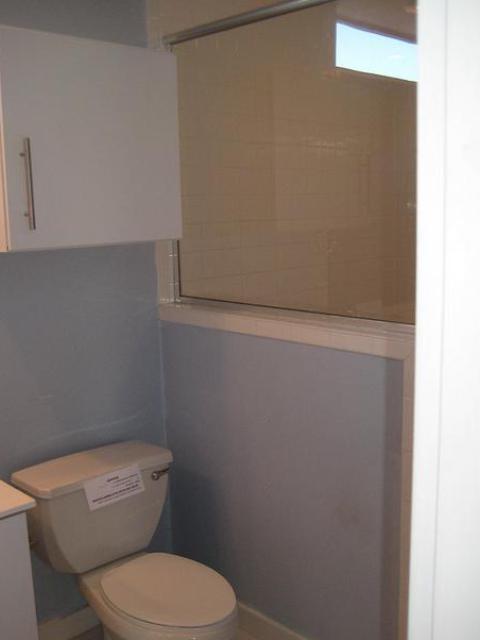Ducha: (171, 0, 480, 640)
Sanitario: (9, 448, 251, 640)
